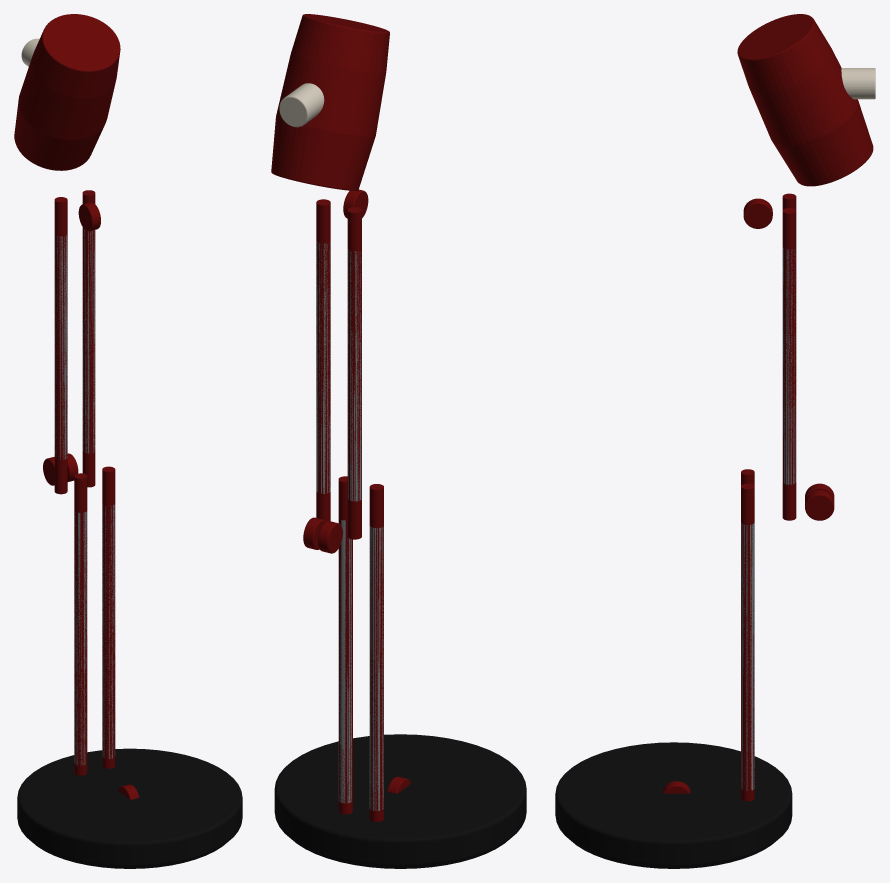
File: Anglepoise_task_lamp__drawn_.obj
The picture shows the model from 3 angles, left to right: view 1: azimuth 30°, elevation 25°; view 2: azimuth 150°, elevation 25°; view 3: azimuth 270°, elevation 25°; orthographic projection. The views are drawn at different scales.
Visible parts, largest first — view 1: base, shade, arm.lower_2, arm.lower_1, arm.upper_1, arm.upper_2, spring.lower_1, spring.upper_1, spring.upper_2, spring.lower_2, pivot.shade; view 2: base, shade, arm.upper_1, arm.upper_2, arm.lower_1, spring.lower_1, arm.lower_2, spring.lower_2, spring.upper_1, spring.upper_2, lampholder, pivot.middle_1 (+1 smaller); view 3: base, shade, arm.upper_2, arm.lower_2, spring.lower_2, spring.upper_2, lampholder, pivot.middle_2, pivot.shade.
Part boxes in pixels (left/top/right/bottom): base: left=17, top=748, right=242, bottom=866; shade: left=14, top=14, right=120, bottom=170; arm.lower_2: left=102, top=466, right=115, bottom=768; arm.lower_1: left=74, top=473, right=87, bottom=775; arm.upper_1: left=54, top=197, right=67, bottom=494; arm.upper_2: left=82, top=190, right=95, bottom=487; spring.lower_1: left=74, top=511, right=87, bottom=765; spring.upper_1: left=54, top=234, right=67, bottom=459; spring.upper_2: left=82, top=229, right=95, bottom=453; spring.lower_2: left=102, top=504, right=115, bottom=758; pivot.shade: left=78, top=202, right=100, bottom=231; base: left=274, top=734, right=526, bottom=866; shade: left=271, top=14, right=389, bottom=190; arm.upper_1: left=347, top=207, right=361, bottom=539; arm.upper_2: left=316, top=199, right=330, bottom=521; arm.lower_1: left=369, top=484, right=383, bottom=821; spring.lower_1: left=369, top=526, right=383, bottom=810; arm.lower_2: left=338, top=476, right=352, bottom=814; spring.lower_2: left=338, top=520, right=352, bottom=803; spring.upper_1: left=347, top=249, right=361, bottom=501; spring.upper_2: left=316, top=242, right=330, bottom=493; lampholder: left=279, top=83, right=324, bottom=127; pivot.middle_1: left=318, top=521, right=342, bottom=553; base: left=555, top=742, right=792, bottom=866; shade: left=737, top=14, right=873, bottom=186; arm.upper_2: left=782, top=208, right=796, bottom=520; arm.lower_2: left=741, top=483, right=754, bottom=801; spring.lower_2: left=741, top=523, right=754, bottom=790; spring.upper_2: left=782, top=247, right=796, bottom=484; lampholder: left=841, top=68, right=875, bottom=99; pivot.middle_2: left=805, top=490, right=834, bottom=520; pivot.shade: left=743, top=198, right=772, bottom=228.
Size of the model in its own units: 0.21 by 0.781 by 0.2837.
